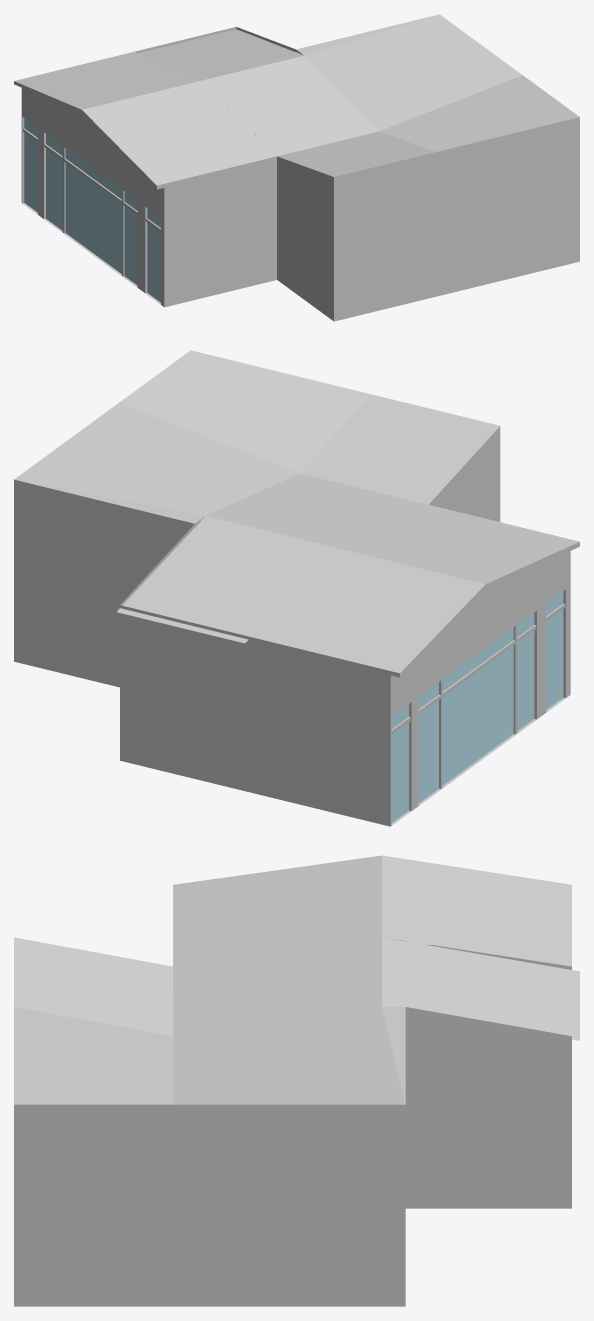
File: B5-B6-Between-B.glb
3 renders of one model, top to bottom at view 1: azimuth 30°, elevation 25°; view 2: azimuth 150°, elevation 25°; view 3: azimuth 270°, elevation 25°, orthographic. The views are drawn at different scales.
Visible parts, largest first — view 1: B5-B6 Between B; view 2: B5-B6 Between B; view 3: B5-B6 Between B.
Boxes of the visible parts, x1,y1,x2,y2 form: B5-B6 Between B: [14, 14, 579, 321]; B5-B6 Between B: [14, 350, 579, 826]; B5-B6 Between B: [14, 855, 579, 1306].
Bounding box in the file's own units: 106 × 40.16 × 102.
